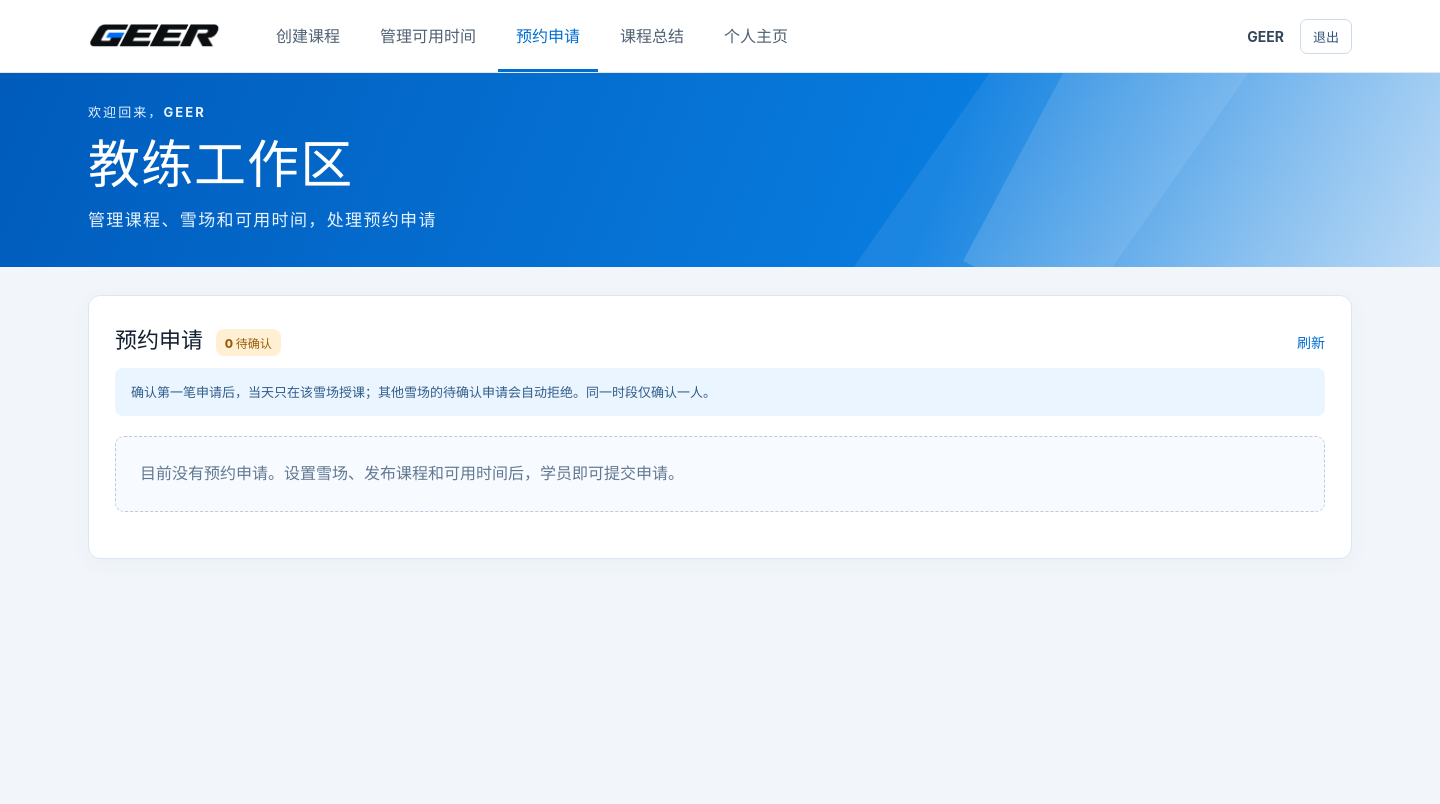
it: opens a separate coach editor and preserves entered text after save fails
Click the button "个人主页" at point(756, 36), box [706, 0, 806, 72]
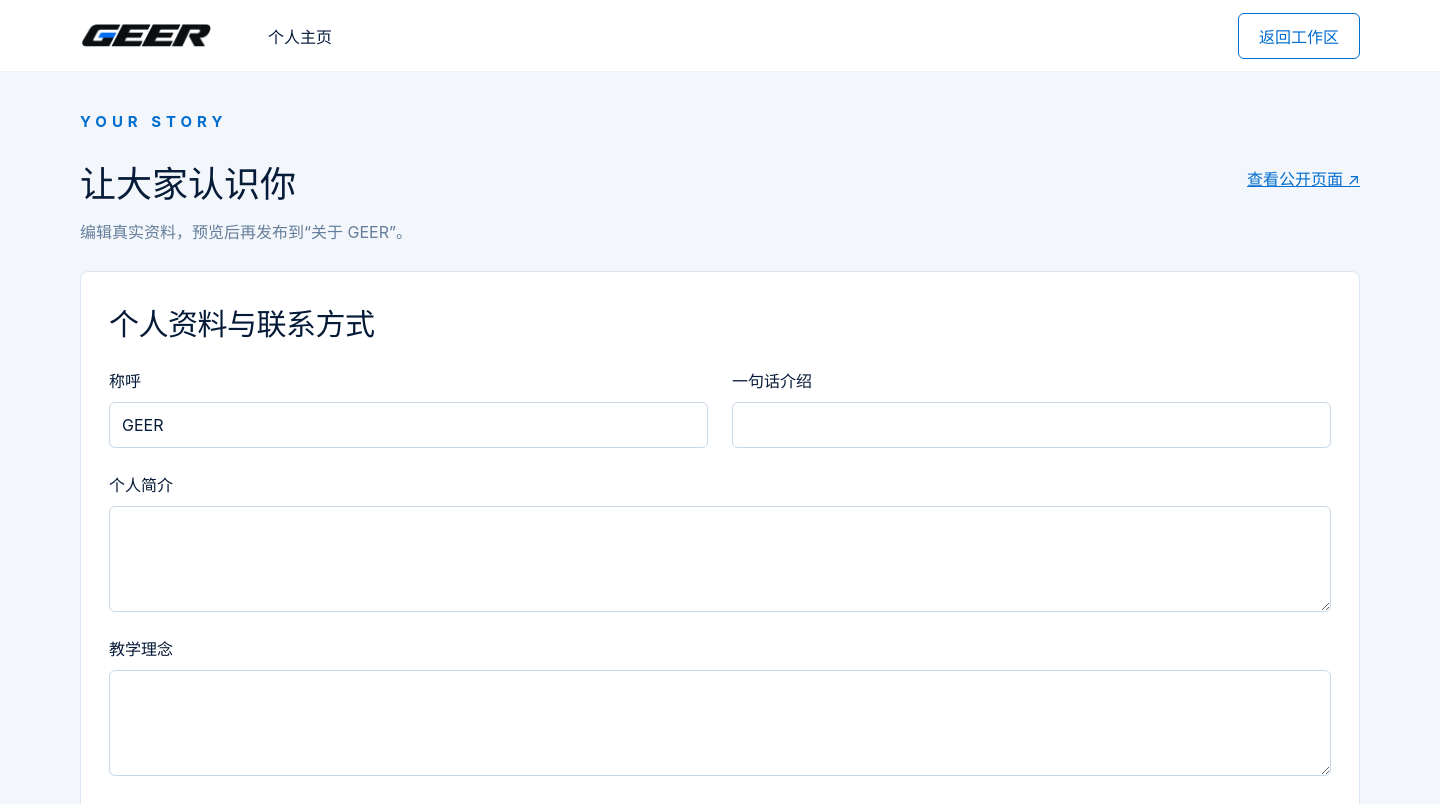
Type "我的教学与热爱" into the field labelled "一句话介绍" at point(1032, 425), box [732, 402, 1331, 448]
(page scrolled)
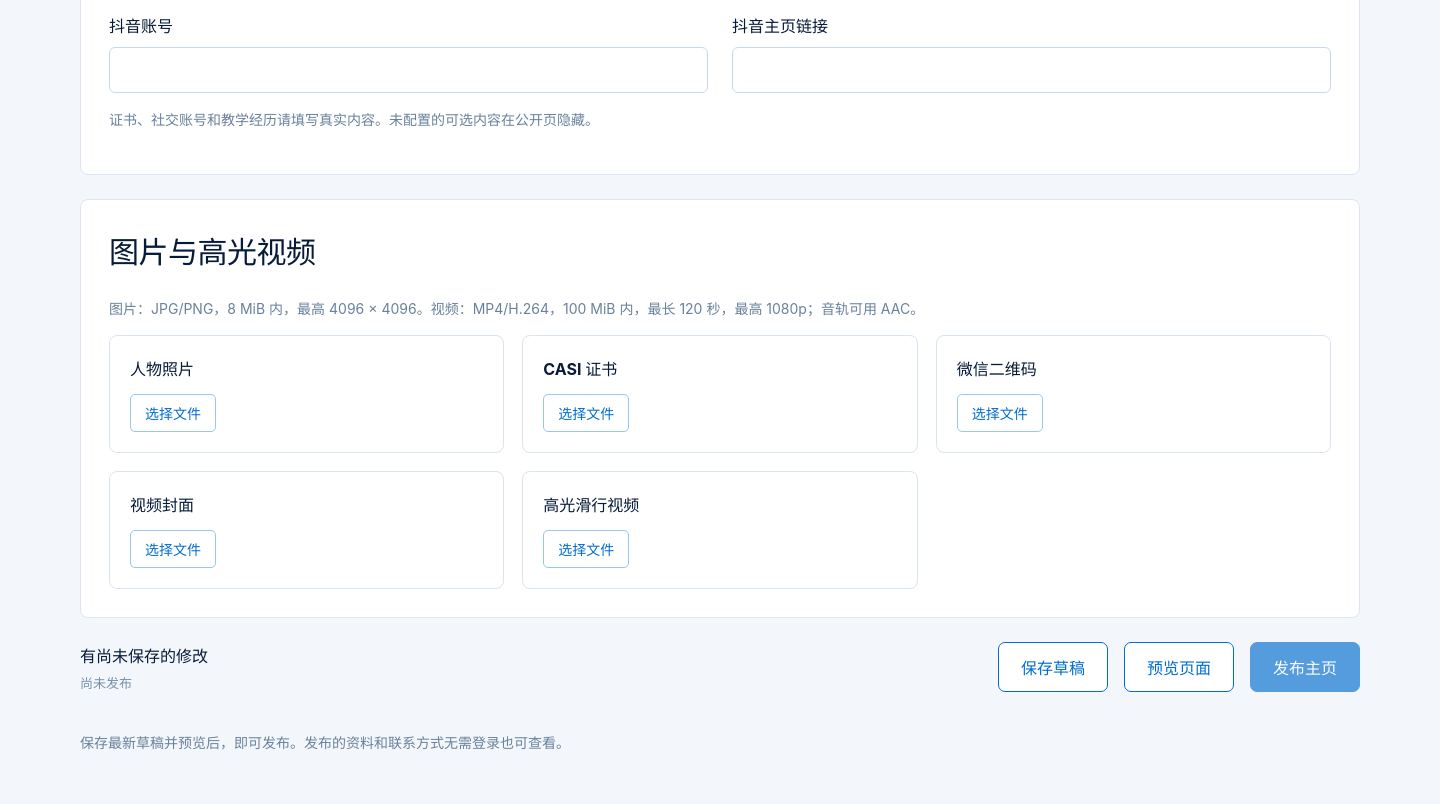
Click the button "保存草稿" at point(1053, 667), box [998, 642, 1108, 692]
(page scrolled)
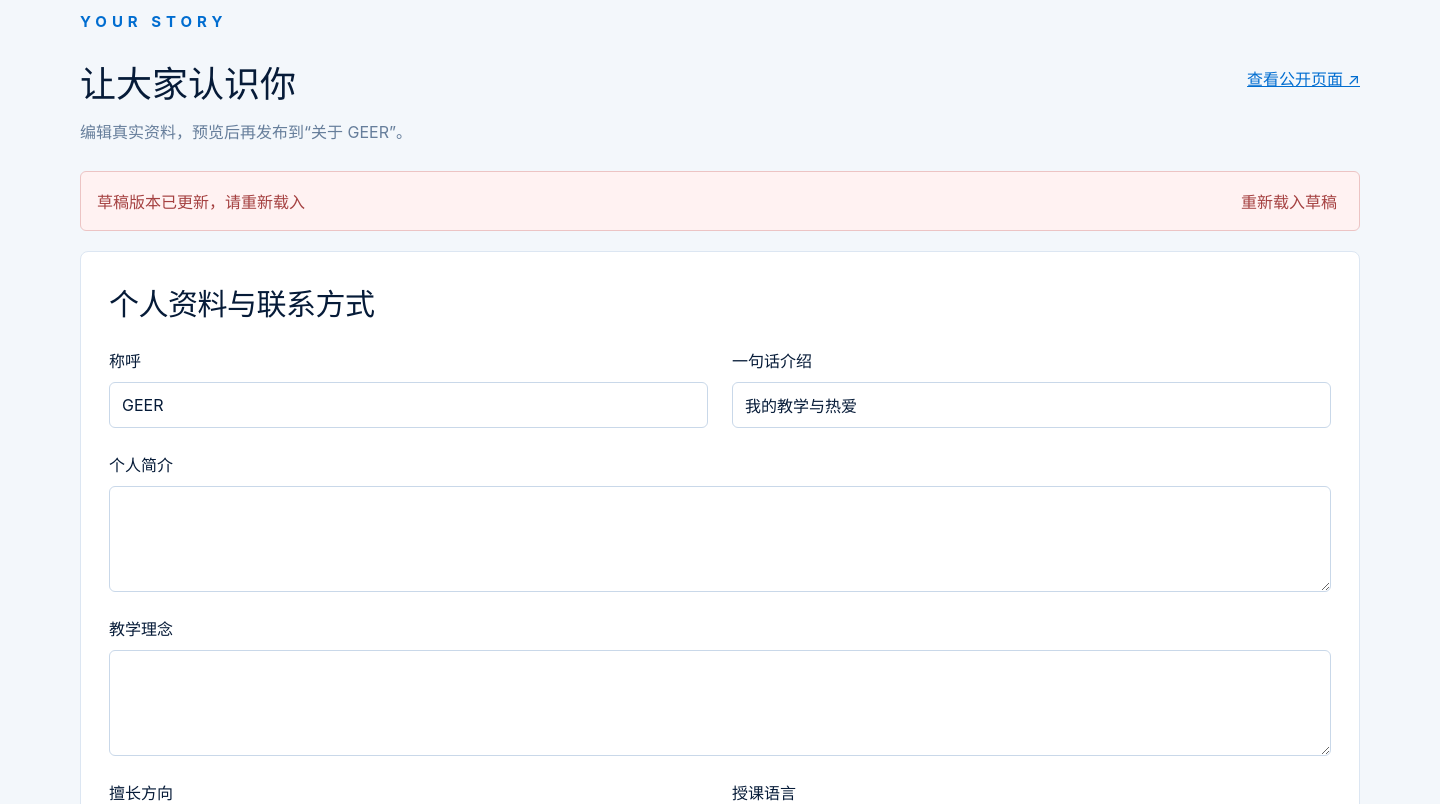
Now the message shows "草稿版本已更新", box [97, 192, 305, 212]
